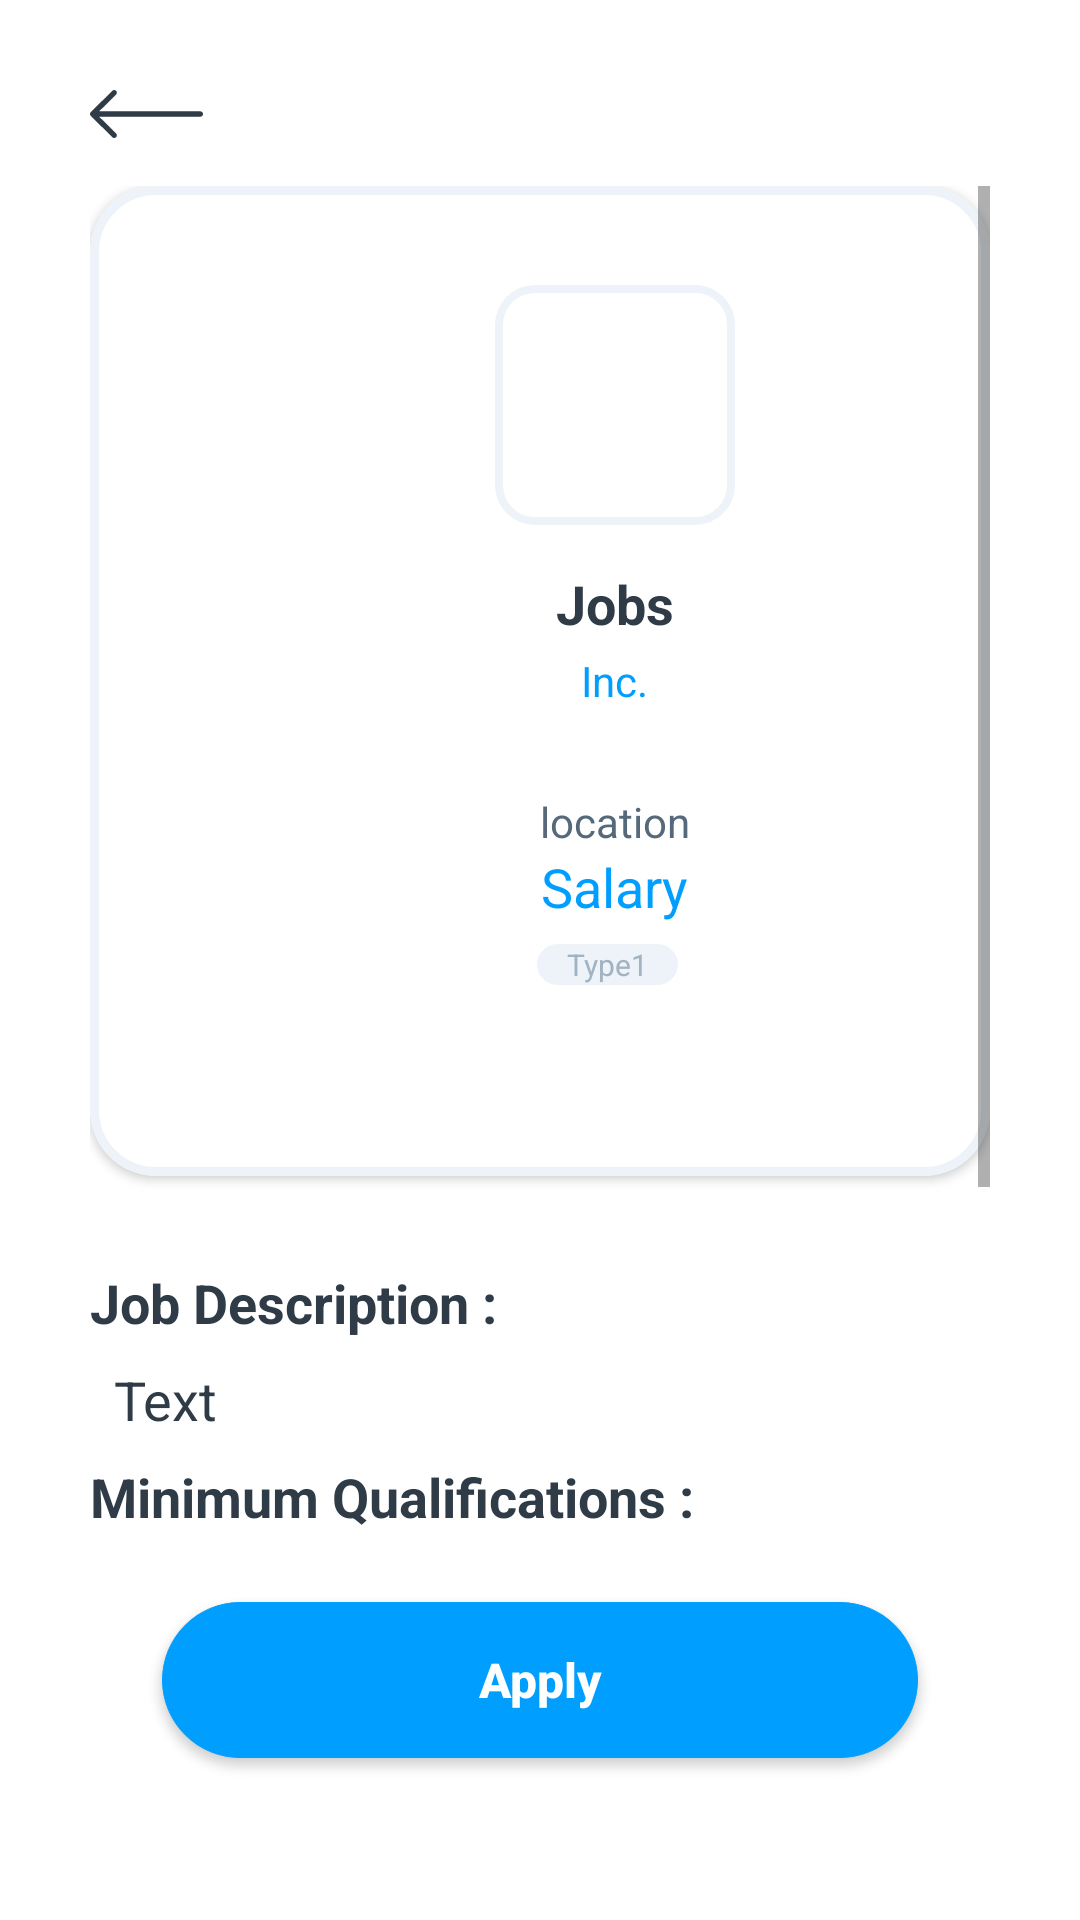

Screen size 1080x1920. Icon name, then its center in pixels as (x=x, y=y):
backward: (x=146, y=114)
